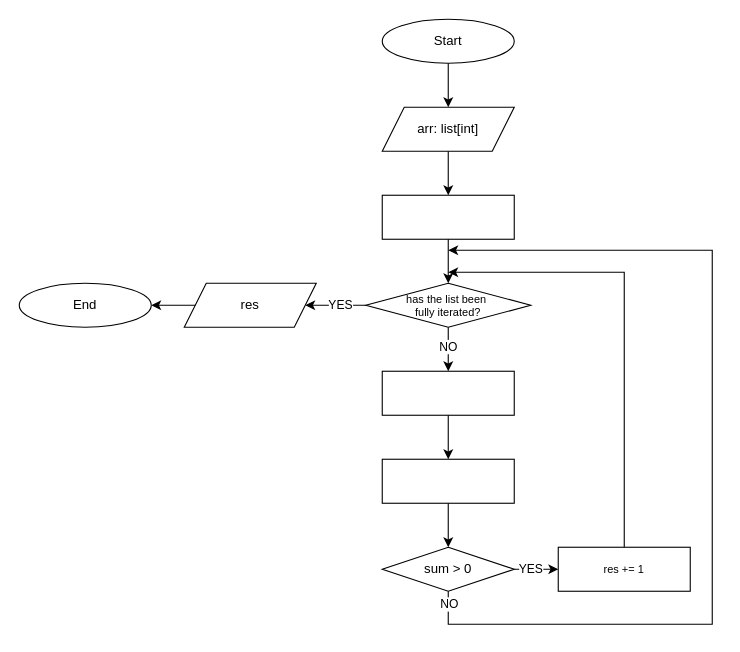
This 740x652 diagram has some shape labels left out. The shapes that lost their labels are listed below. From the top down, each one's centre as x and y in pixels, then its label:
the point at 447,216: res = 0
the point at 447,392: Create a list containing all the digits of the array value
the point at 447,480: Compute the sum of the digits
